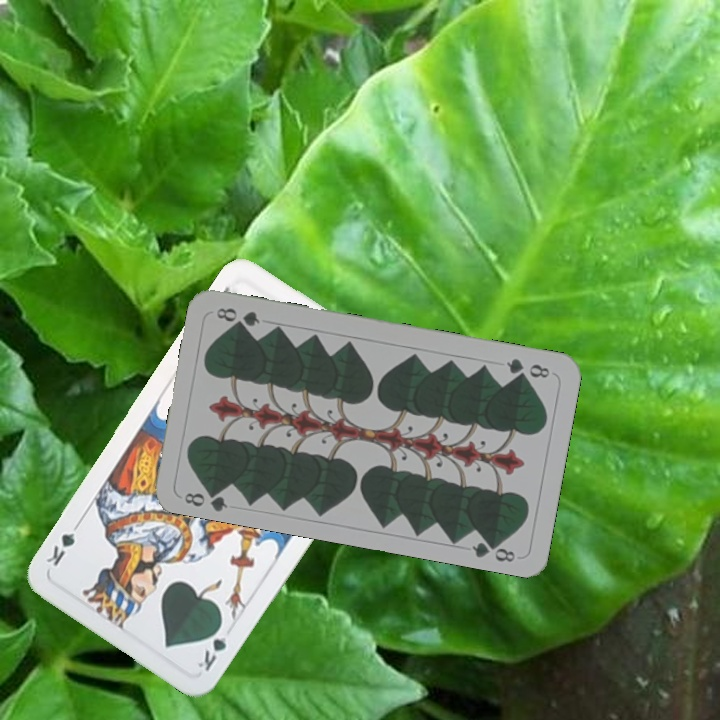G8: (180, 483, 230, 513), (502, 354, 553, 381)
GK: (193, 618, 231, 674)
